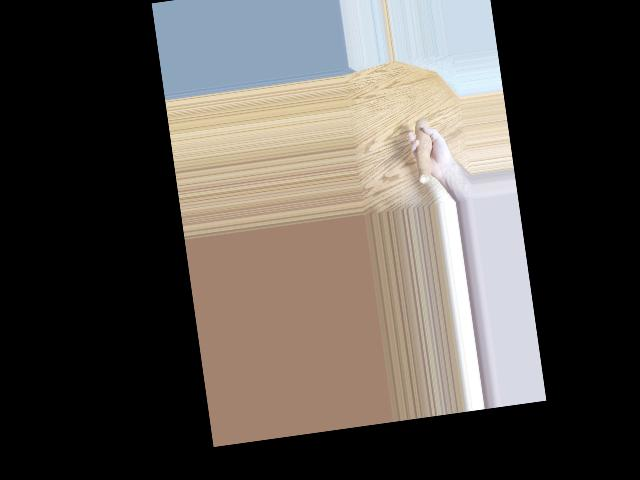sweet_potato: (408, 114, 434, 187)
